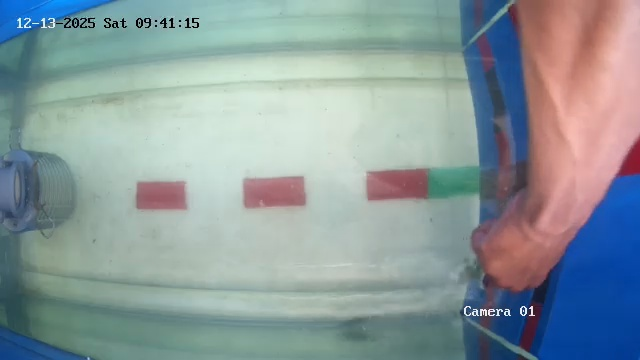fish: (354, 309, 411, 331)
